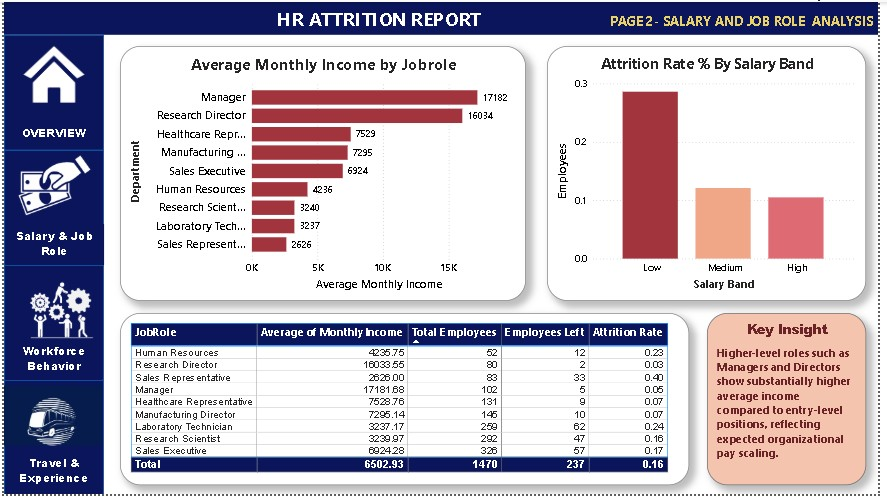

The page's visual inventory and layout, read from the dashboard file:
{"tool":"powerbi","page":{"name":"Salary & Job Role","canvas":[1280,720],"ordinal":1},"visuals":[{"type":"textbox","box":[0,0,1280.5,48.3],"z":0},{"type":"shape","box":[0,216.6,146.3,168.3],"z":1000},{"type":"shape","box":[0,48.3,146.3,168],"z":2000},{"type":"shape","box":[0,384.9,146.3,168],"z":3000},{"type":"shape","box":[0,553,146.3,167],"z":4000},{"type":"image","box":[11.7,61.5,122.9,89.3],"z":5000},{"type":"image","box":[1.5,216.6,144.9,122.9],"z":6000},{"type":"image","box":[10,394.9,144.9,120],"z":7000},{"type":"textbox","box":[1.5,174.1,143.4,42.4],"z":8000},{"type":"textbox","box":[1.5,324.9,144.9,60],"z":9000},{"type":"textbox","box":[1.5,493.2,143.4,60],"z":10000},{"type":"textbox","box":[1.5,657.1,143.4,62.9],"z":11000},{"type":"actionButton","box":[1.5,48.3,143.4,168.3],"z":12000},{"type":"actionButton","box":[1.5,216.6,143.4,168.3],"z":13000},{"type":"actionButton","box":[0,382,143.4,168.3],"z":14000},{"type":"actionButton","box":[0,550.2,143.4,169.8],"z":15000},{"type":"image","box":[0,553.2,143.4,103.9],"z":16000},{"type":"lineStackedColumnComboChart","title":"Attrition Rate % By Salary Band","fields":{"Category":["HR_Attrition_Cleaned.SalaryBand"],"Y":["HR_Attrition_Cleaned.Attrition Rate"]},"box":[794.6,64.4,466.8,373.2],"z":17000},{"type":"clusteredBarChart","title":"Average Monthly Income by Jobrole","fields":{"Category":["HR_Attrition_Cleaned.JobRole"],"Y":["Avg(HR_Attrition_Cleaned.MonthlyIncome)"]},"box":[169.8,64.4,594.1,373.2],"z":18000},{"type":"tableEx","fields":{"Values":["HR_Attrition_Cleaned.JobRole","Avg(HR_Attrition_Cleaned.MonthlyIncome)","HR_Attrition_Cleaned.Total Employees","HR_Attrition_Cleaned.Employees Left","HR_Attrition_Cleaned.Attrition Rate"]},"box":[169.8,455.1,832.7,251.7],"z":19000},{"type":"textbox","title":"Key Insight","box":[1028.8,455.1,232.7,251.7],"z":20000}]}

Visuals, with their boxes in screenshot pixels (x1, y1, x2, y2), scaled from the page's 1280x720 canvas onto the 887x501 screenshot:
textbox: select_region(0, 0, 886, 34)
shape: select_region(0, 151, 101, 268)
shape: select_region(0, 34, 101, 151)
shape: select_region(0, 268, 101, 385)
shape: select_region(0, 385, 101, 500)
image: select_region(8, 43, 93, 105)
image: select_region(1, 151, 101, 236)
image: select_region(7, 275, 107, 358)
textbox: select_region(1, 121, 100, 151)
textbox: select_region(1, 226, 101, 268)
textbox: select_region(1, 343, 100, 385)
textbox: select_region(1, 457, 100, 500)
actionButton: select_region(1, 34, 100, 151)
actionButton: select_region(1, 151, 100, 268)
actionButton: select_region(0, 266, 99, 383)
actionButton: select_region(0, 383, 99, 500)
image: select_region(0, 385, 99, 457)
"Attrition Rate % By Salary Band" lineStackedColumnComboChart: select_region(551, 45, 874, 304)
"Average Monthly Income by Jobrole" clusteredBarChart: select_region(118, 45, 529, 304)
tableEx - HR_Attrition_Cleaned.JobRole x Avg(HR_Attrition_Cleaned.MonthlyIncome): select_region(118, 317, 695, 492)
"Key Insight" textbox: select_region(713, 317, 874, 492)
